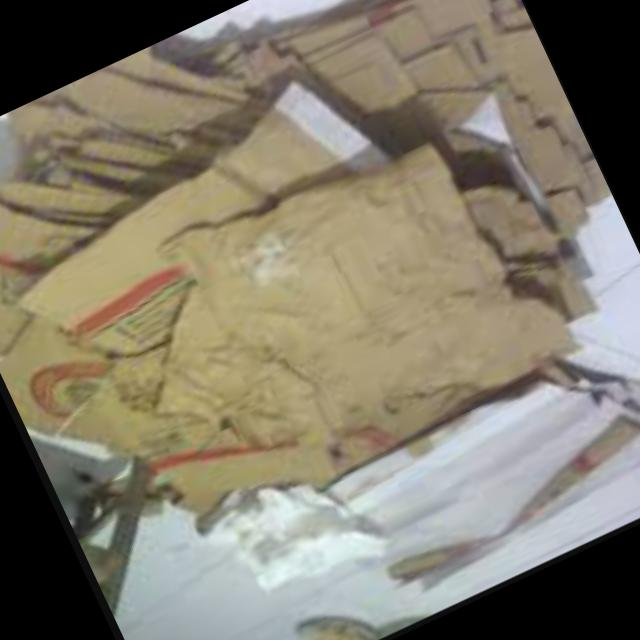KantongSemen: (0, 0, 640, 597)
